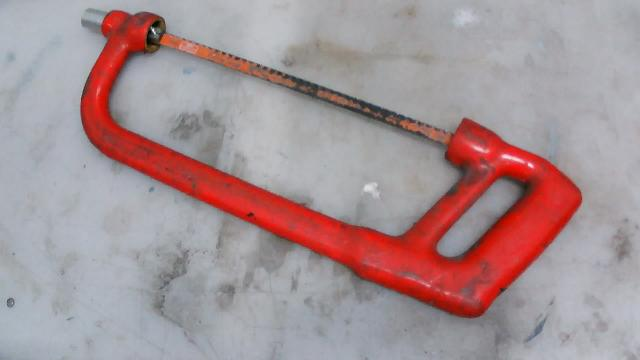gergaji_besi: (53, 0, 601, 337)
